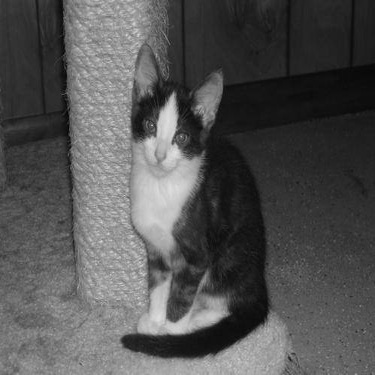cat: (118, 42, 271, 359)
